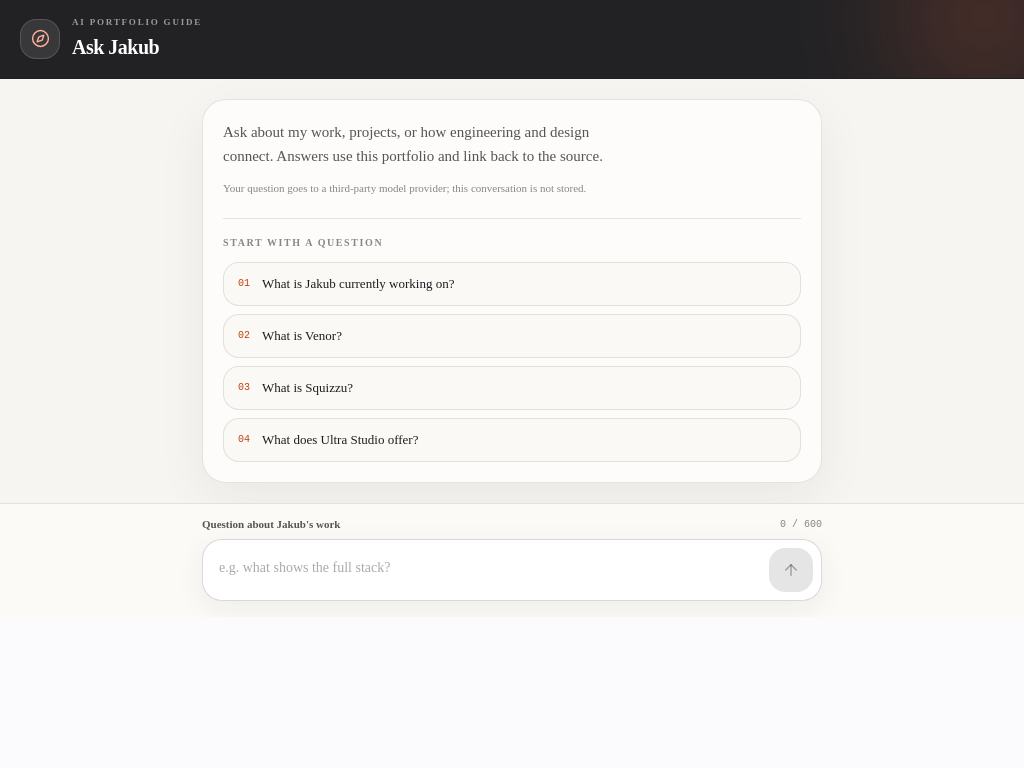
Scenario: Ask Jakub Desktop App › retries the failed question without making the visitor retype it
The image size is (1024, 768).
Type "Retry this question" into the text box labelled "Question about Jakub's work". click: (486,570)
box: [211, 548, 761, 592]
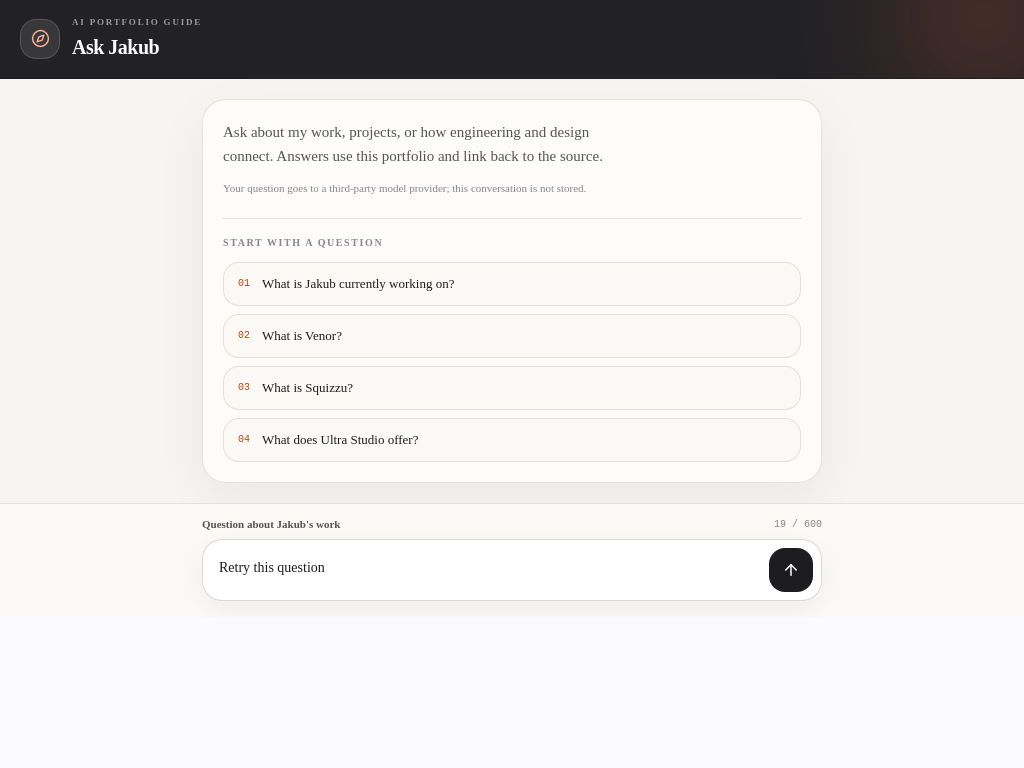
Press Enter in the text box labelled "Question about Jakub's work", box [211, 548, 761, 592]
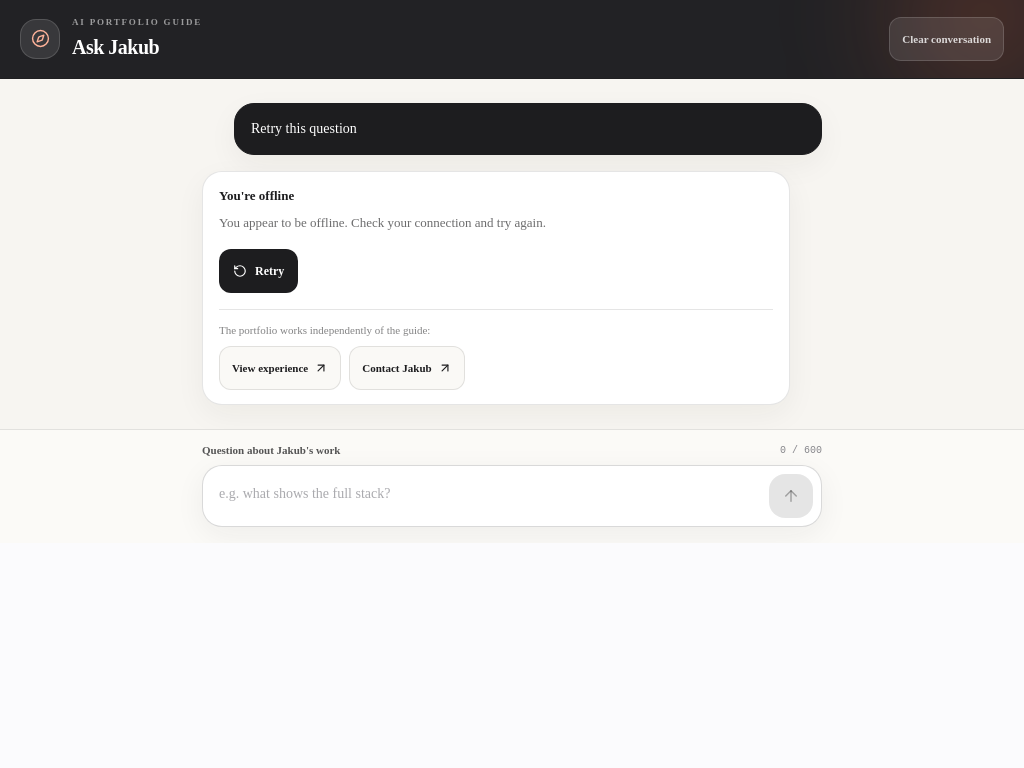
Result: the message is shown at [219, 186, 773, 390]
Click the button "Retry". click: (259,271)
box: [219, 249, 298, 293]
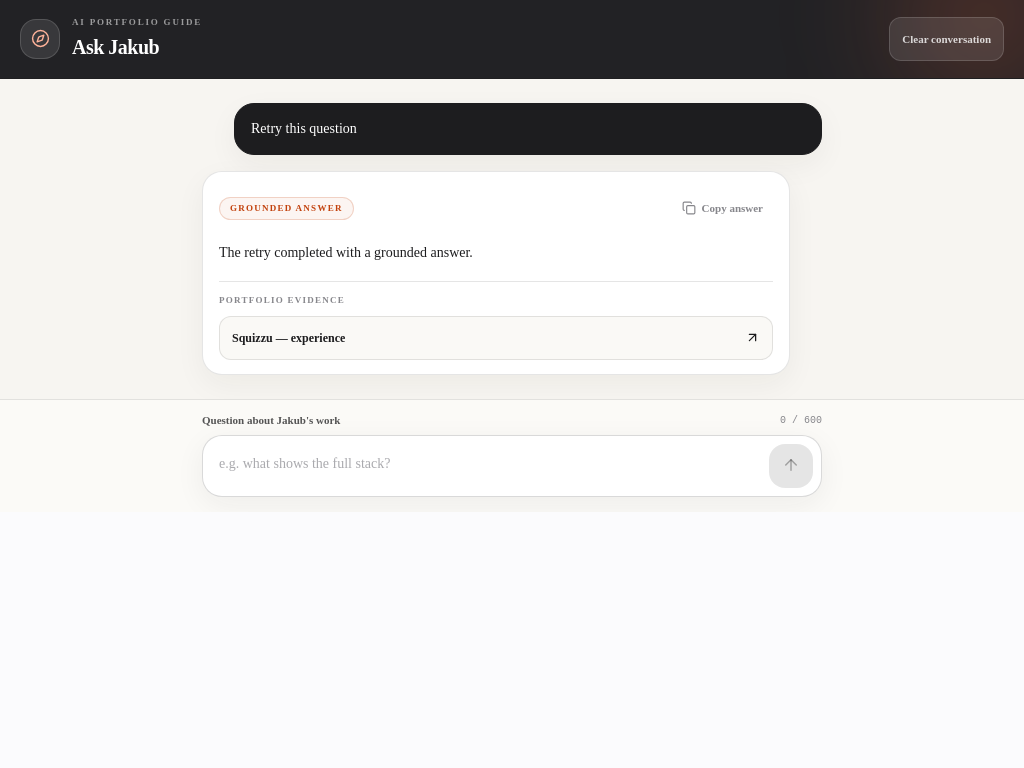
Result: the text "Grounded answer" is shown at [219, 196, 354, 220]
